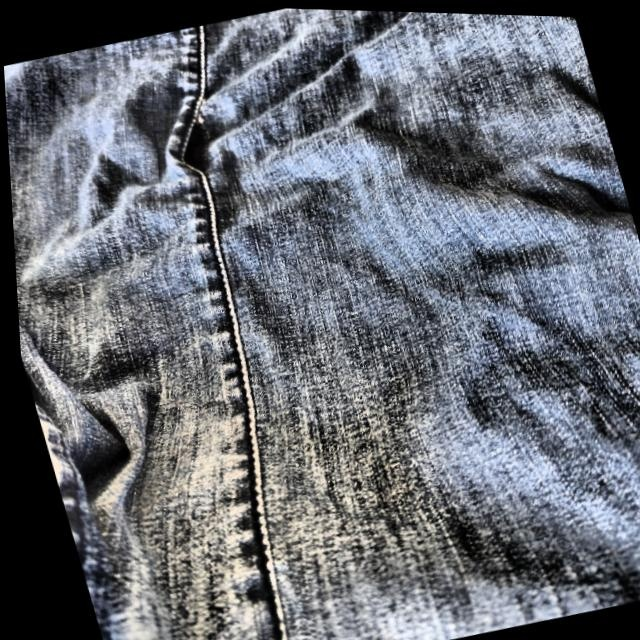seam: (160, 100, 231, 186)
